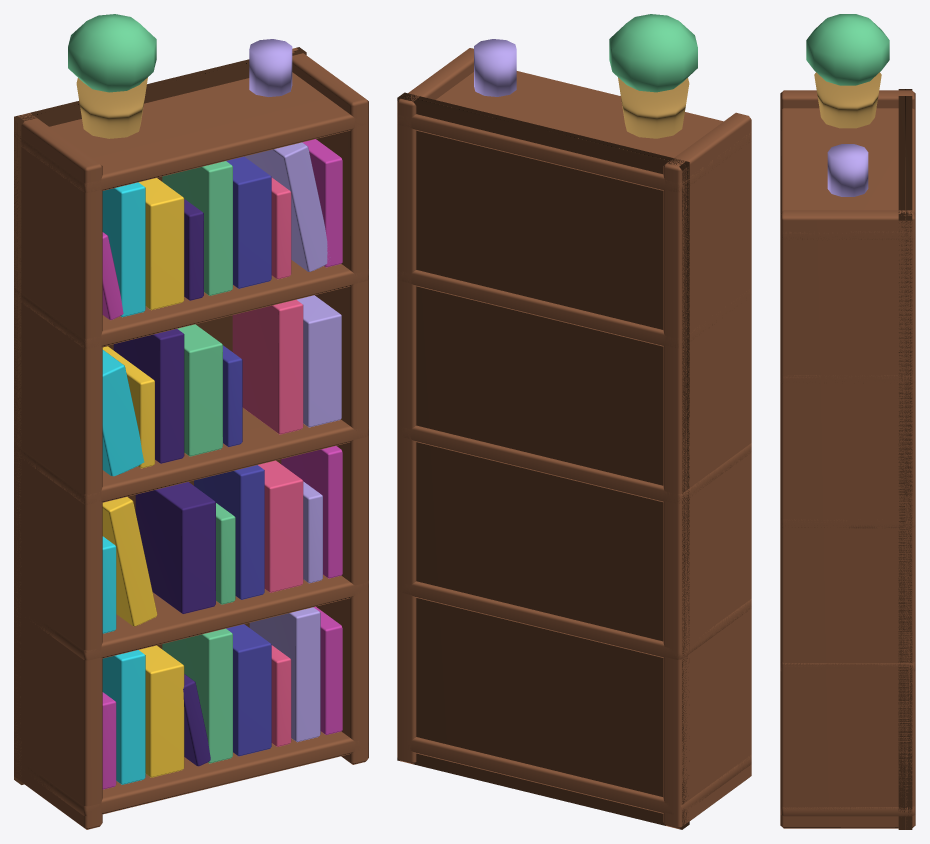
File: bookshelf.glb
3 renders of one model, left to right at view 1: azimuth 30°, elevation 25°; view 2: azimuth 150°, elevation 25°; view 3: azimuth 270°, elevation 25°, orthographic. The views are drawn at different scales.
Visible parts, largest first — view 1: Bookshelf.001; view 2: Bookshelf.001; view 3: Bookshelf.001.
Part boxes in pixels (bbox=[...]): Bookshelf.001: bbox=[14, 14, 368, 829]; Bookshelf.001: bbox=[397, 14, 751, 829]; Bookshelf.001: bbox=[780, 14, 915, 829].
Bounding box in the file's own units: 0.9 × 2.32 × 0.4.
